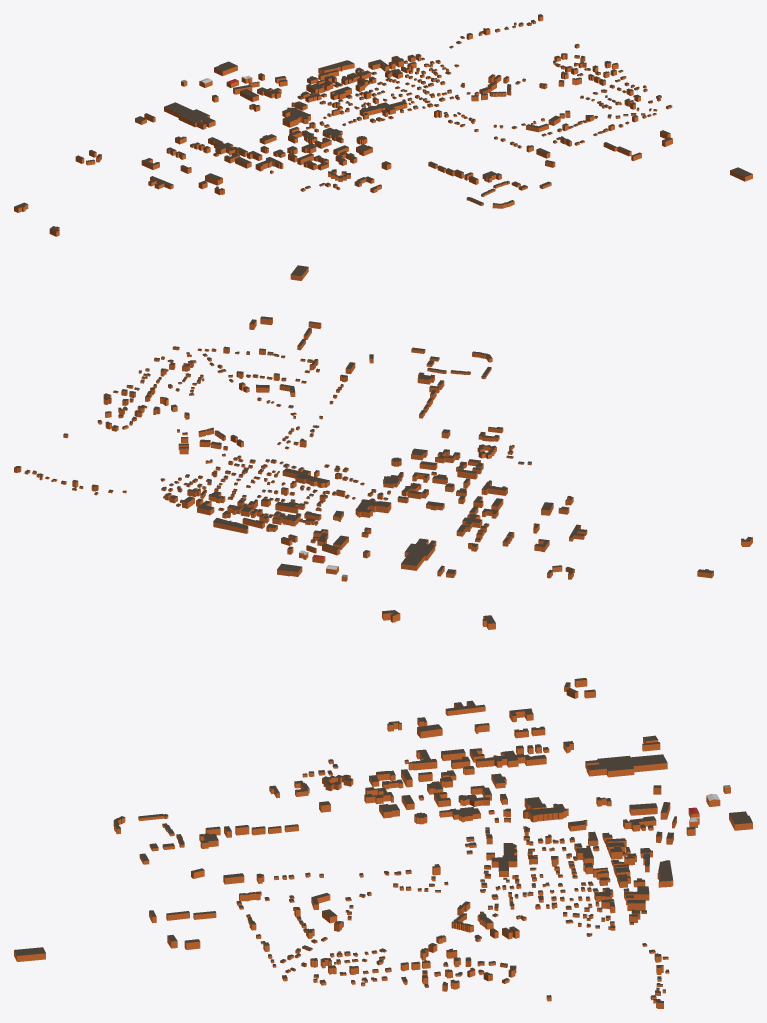
Rendered from BuildingsFinal.obj.
3 views of the same model, one above another, from view 1: azimuth 30°, elevation 25°; view 2: azimuth 150°, elevation 25°; view 3: azimuth 270°, elevation 25° (orthographic). The views are drawn at different scales.
Parts seen in each view (by area): view 1: map_3.osm_buildings; view 2: map_3.osm_buildings; view 3: map_3.osm_buildings.
Boxes of the visible parts, box(x1,y1,x2,y2) form: map_3.osm_buildings: box(14, 14, 752, 236); map_3.osm_buildings: box(14, 265, 752, 581); map_3.osm_buildings: box(14, 610, 752, 1008).
Size of the model in its own units: 2230 by 106 by 1785.
